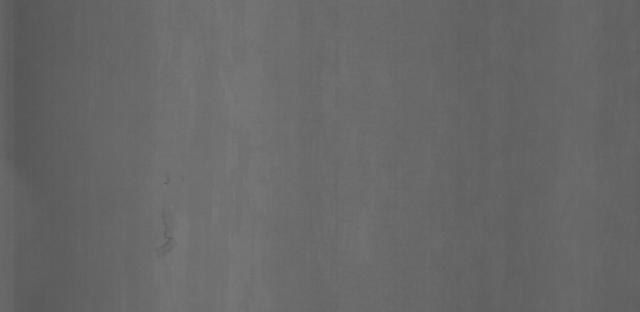water_spot: (147, 183, 198, 269)
